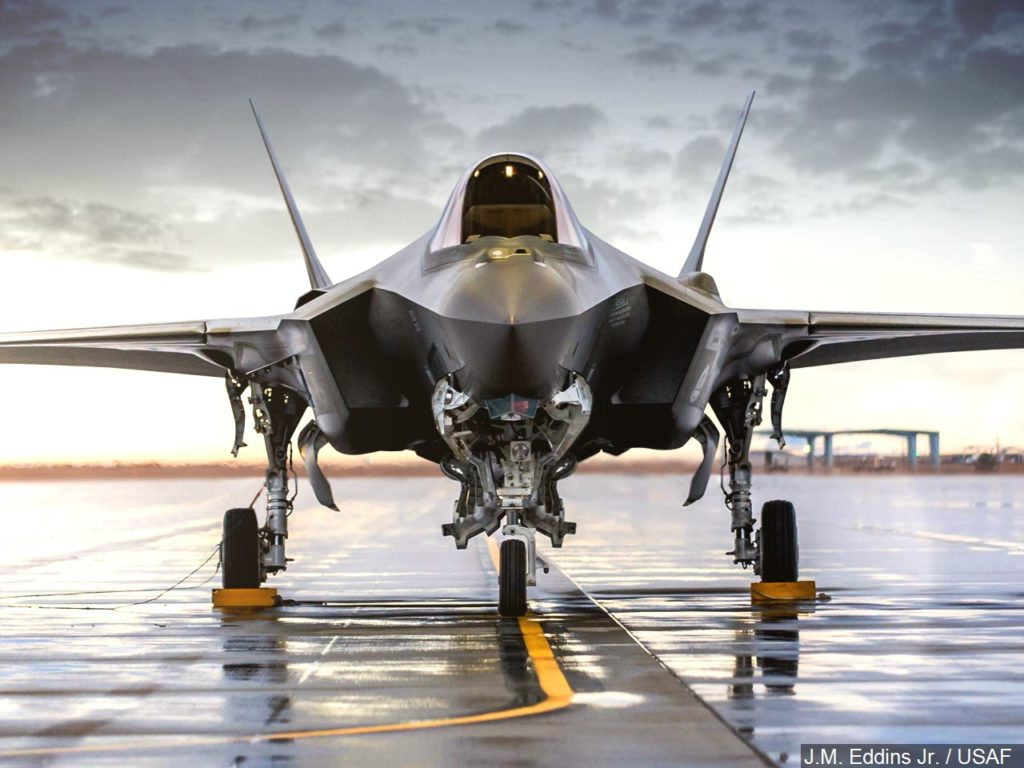F-35 Lightning: (1, 82, 1024, 663)
